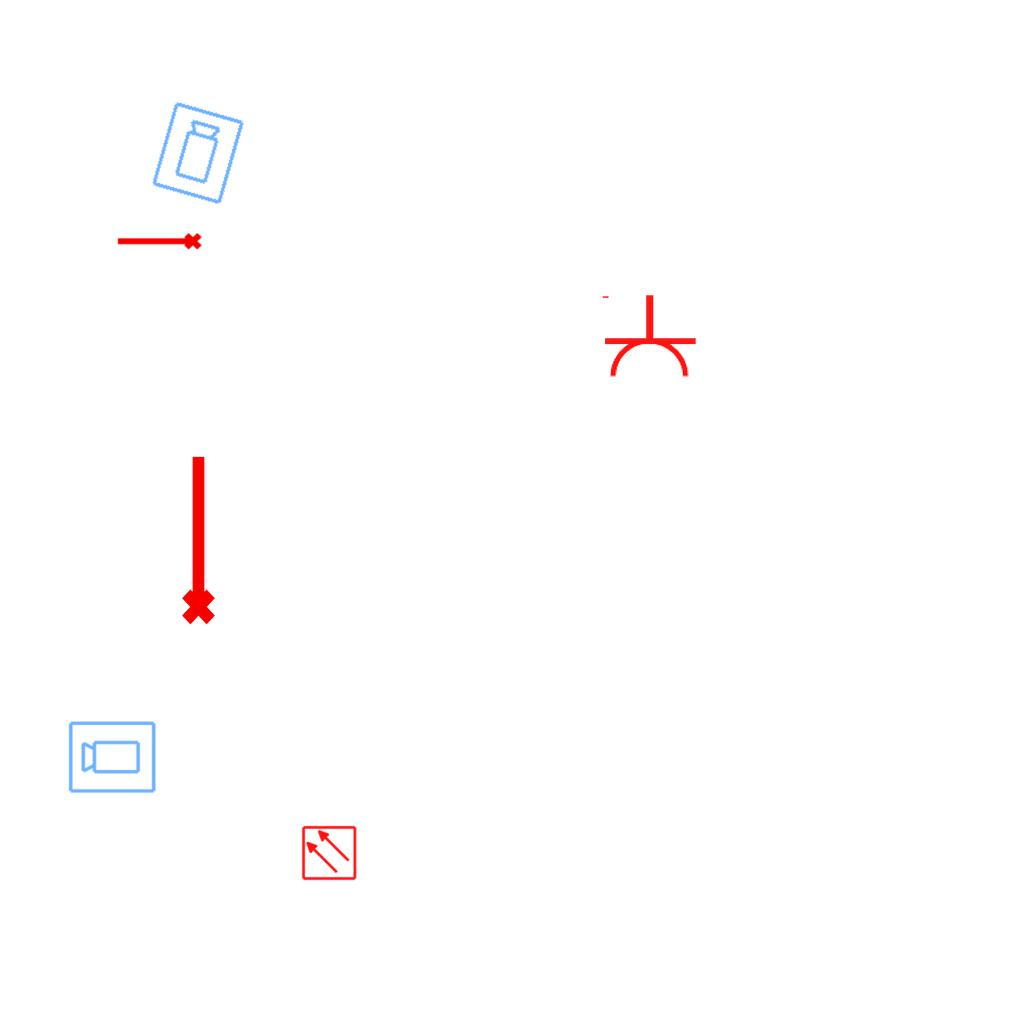ASR_Ansaugoeffnung: (173, 451, 219, 627), (115, 231, 203, 254)
KFO_Kamera_mit_Festobjektiv: (148, 99, 249, 208), (67, 718, 158, 795)
RMO_Rauchmelder_optischer: (301, 825, 357, 881)
Schukosteckdose_einfach: (598, 293, 698, 380)
